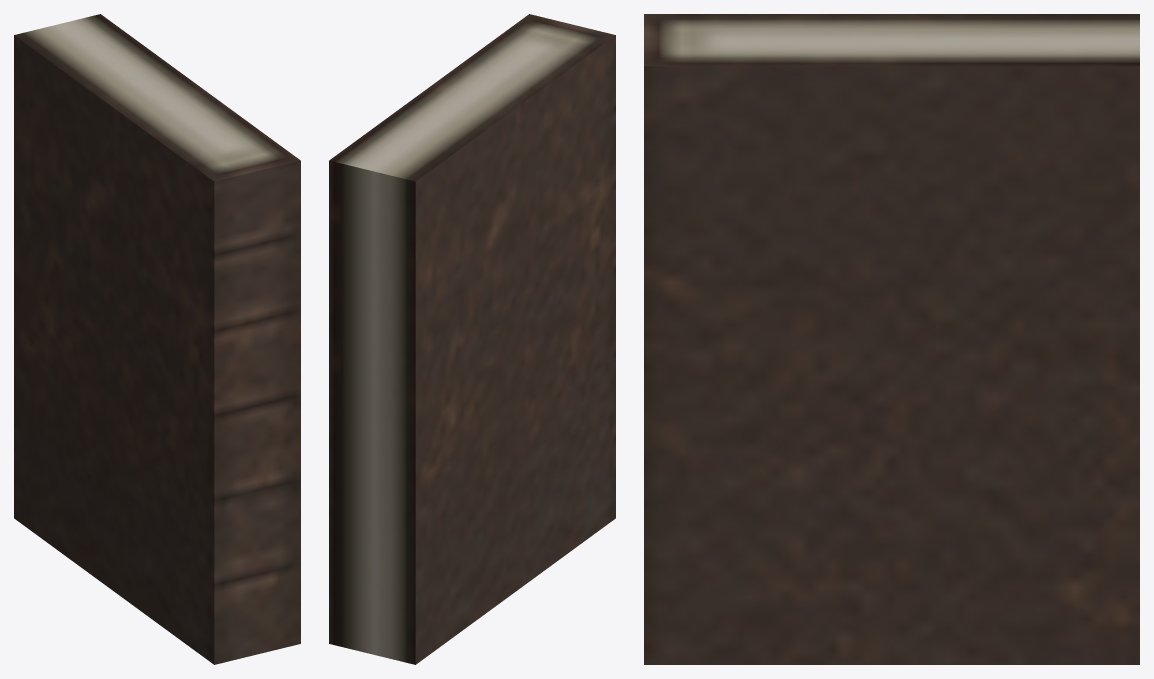
Rendered from Book.Single_4.fbx.
The picture shows the model from 3 angles, left to right: view 1: azimuth 30°, elevation 25°; view 2: azimuth 150°, elevation 25°; view 3: azimuth 270°, elevation 25°; orthographic projection. The views are drawn at different scales.
Visible parts, largest first — view 1: Book.Single_4; view 2: Book.Single_4; view 3: Book.Single_4.
Part boxes in pixels (box(x1,y1,x2,y2)): Book.Single_4: box(14, 14, 300, 664); Book.Single_4: box(329, 14, 615, 664); Book.Single_4: box(644, 14, 1139, 664).
Bounding box in the file's own units: 4.41 × 23.54 × 17.67.
